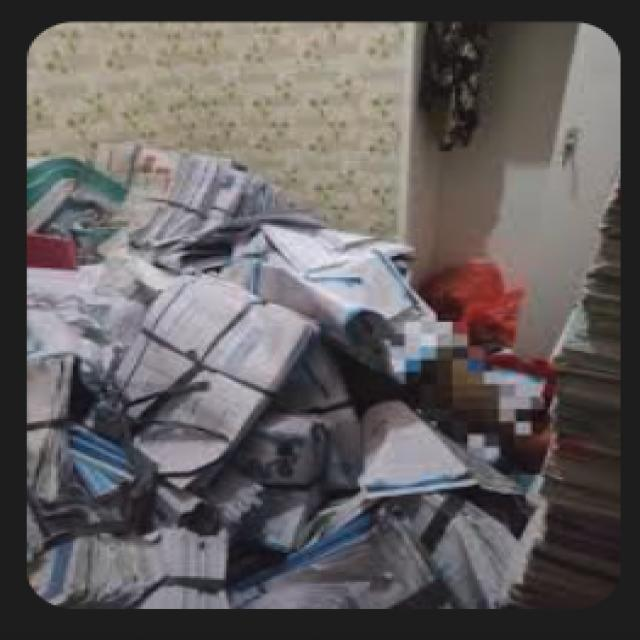KertasBekas: (24, 140, 543, 607)
